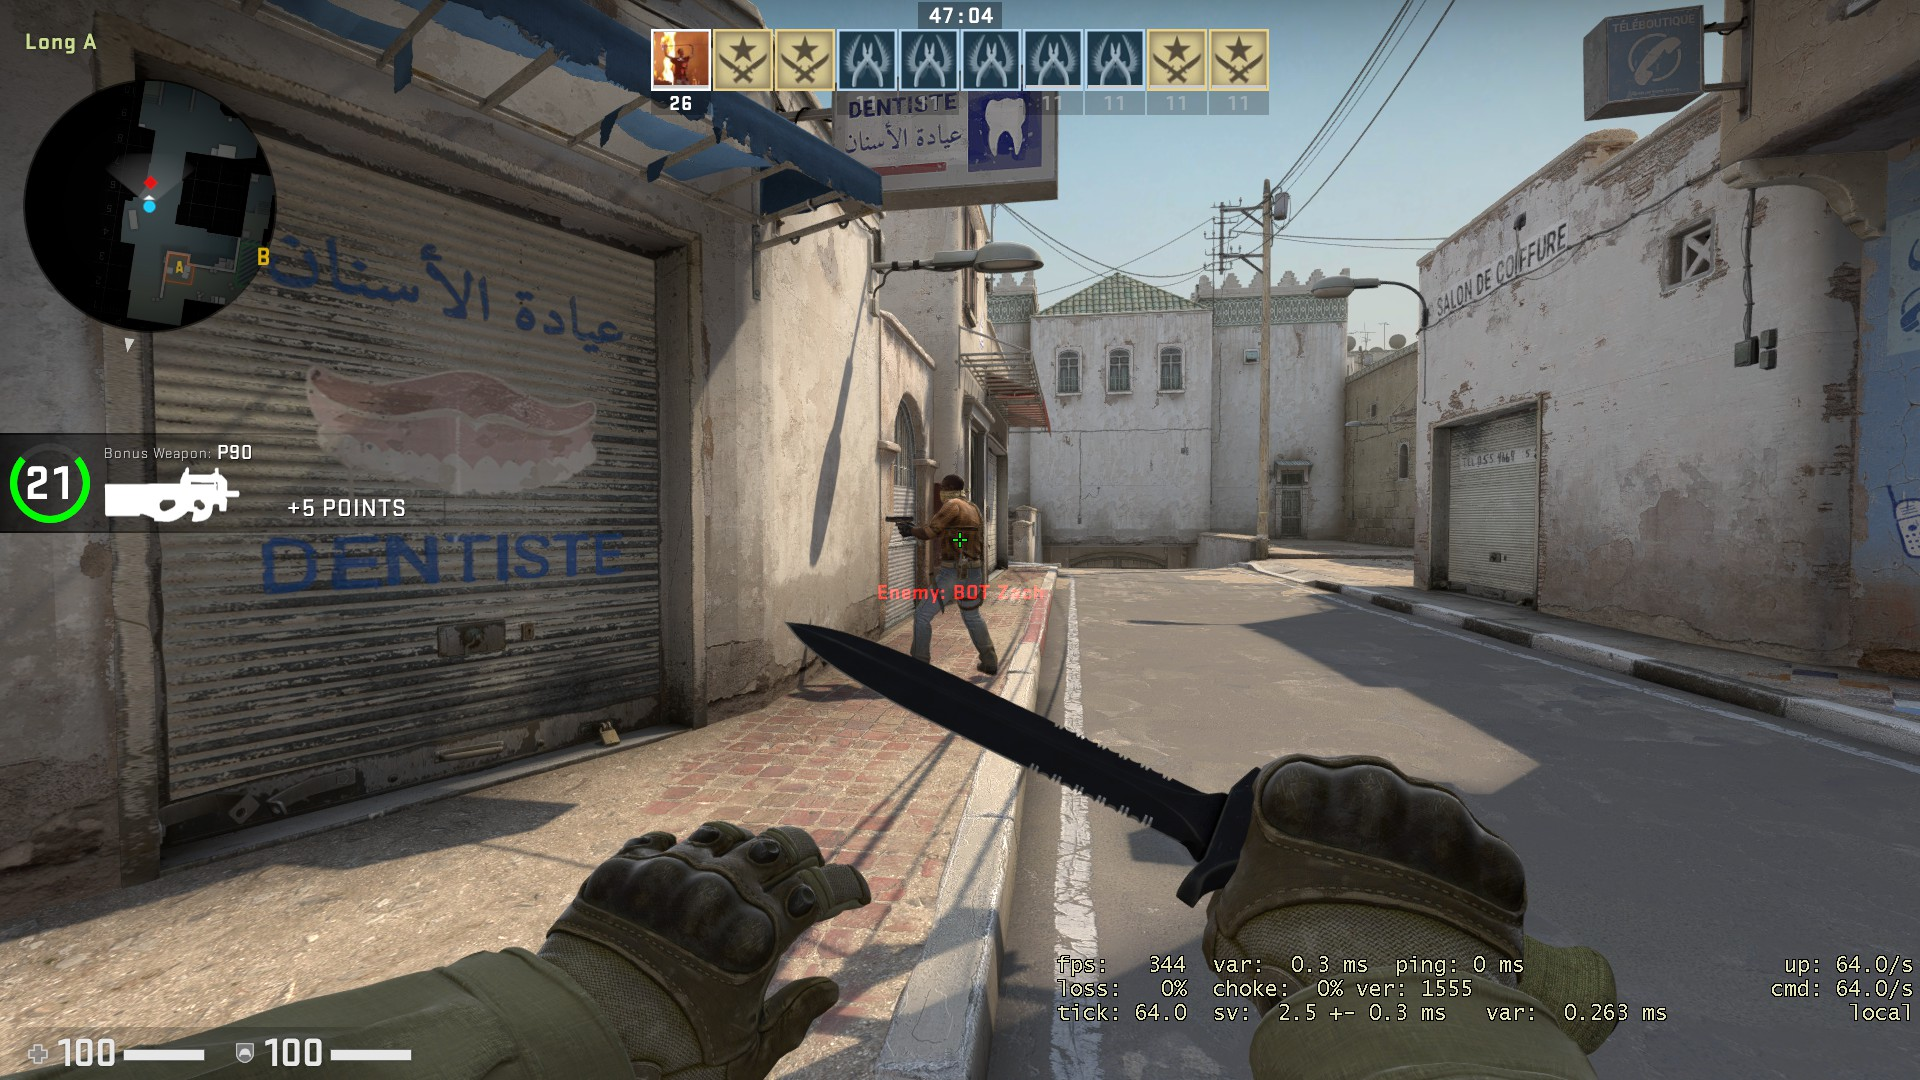player: (880, 467, 1005, 682)
